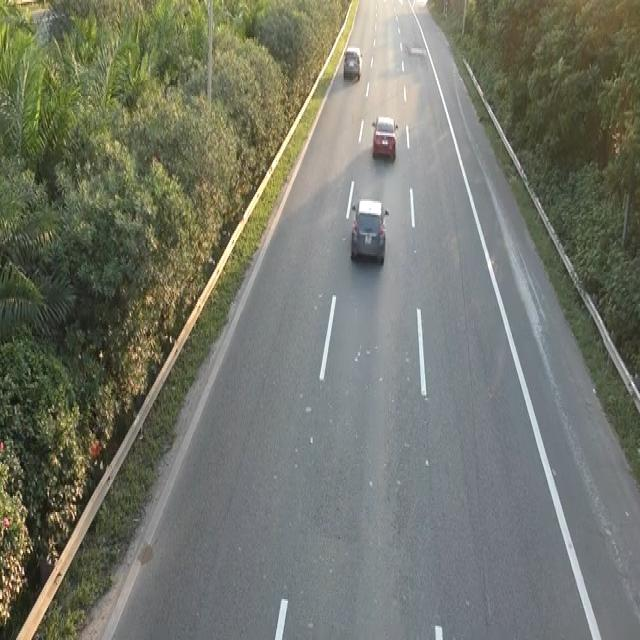bus: (347, 194, 391, 272), (370, 112, 398, 162), (342, 44, 362, 80)
